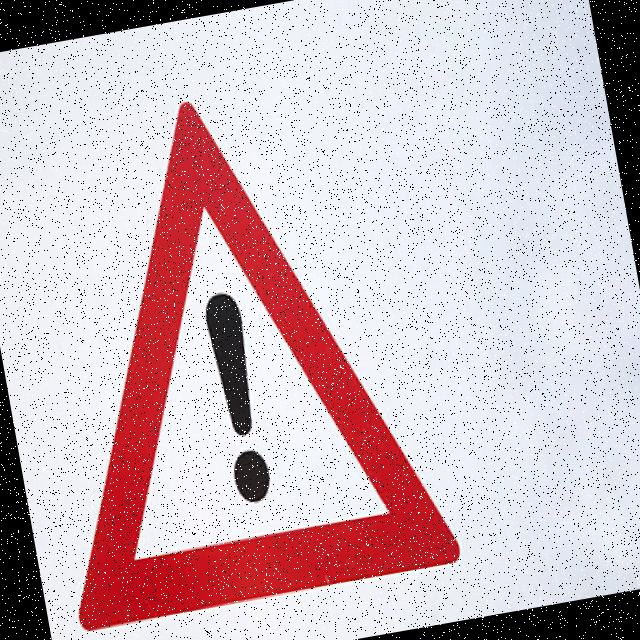warning: (0, 57, 471, 640)
